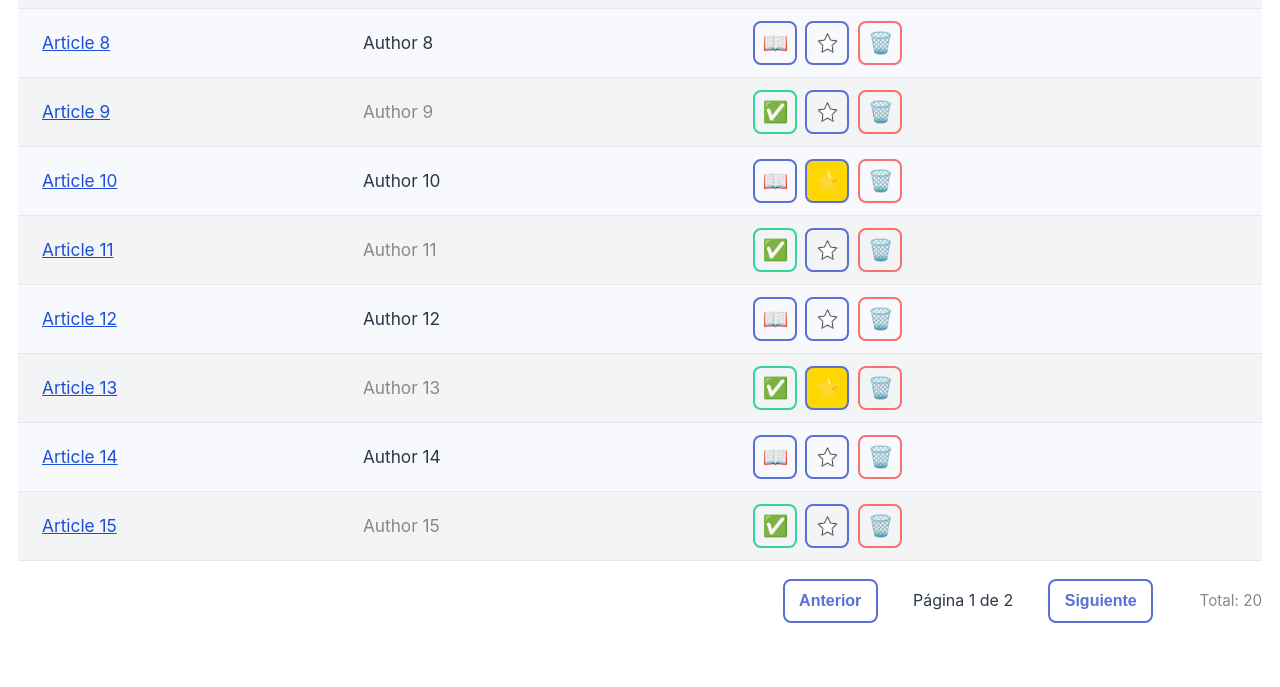
Test: ArticleTable - Paginación › resetea a página 1 al cambiar filtro de favoritos
(page scrolled)
Note: Ir a página 2
Click the button "Siguiente": point(1101, 601) x1=1048 y1=579 x2=1153 y2=623
(page scrolled)
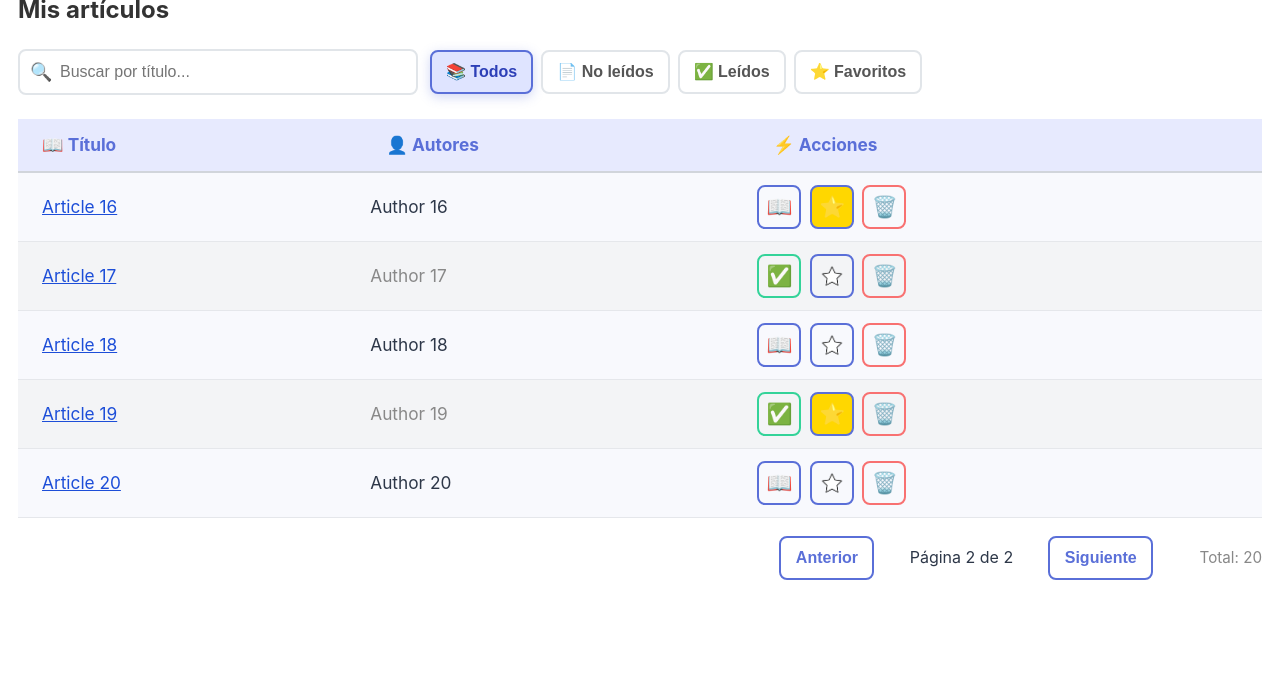
Expected: the link titled "Article 16" is shown, x1=42 y1=196 x2=117 y2=217
Note: Activar filtro de favoritos (debería resetear a página 1)
Click the button "⭐ Favoritos": point(858, 72) x1=794 y1=50 x2=922 y2=94
(page scrolled)
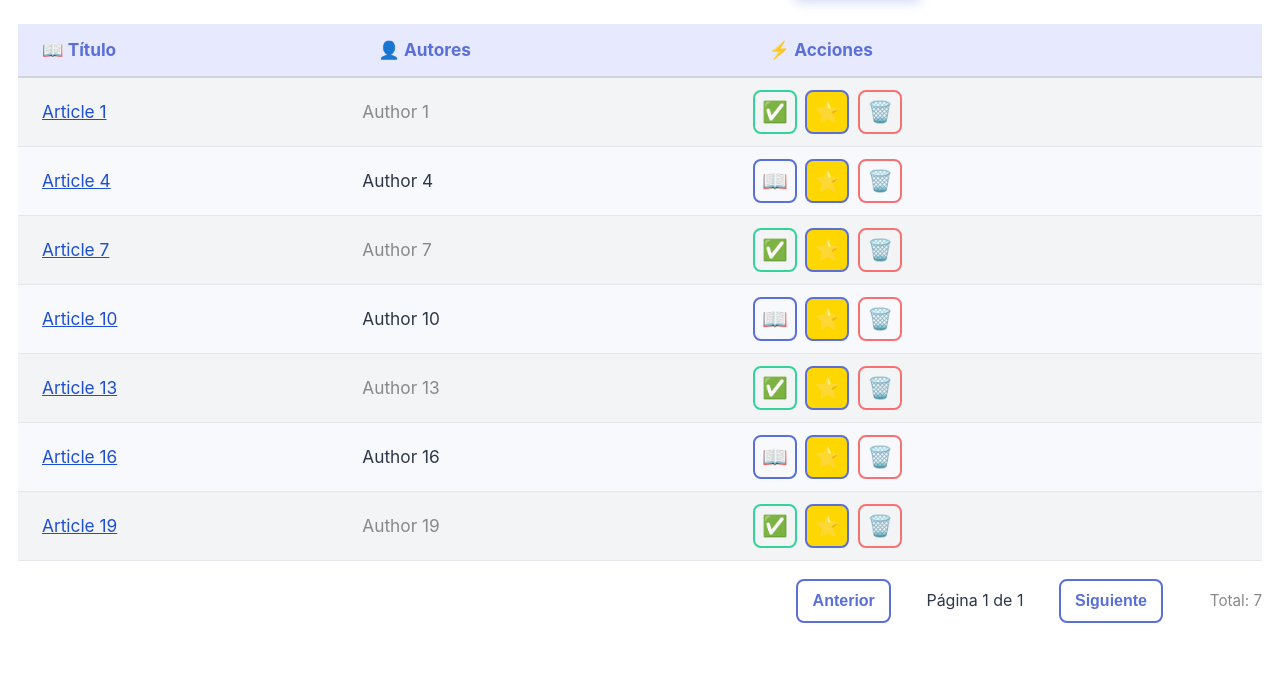
Expected: the text "Página 1 de 1" is shown, x1=926 y1=588 x2=1023 y2=614
